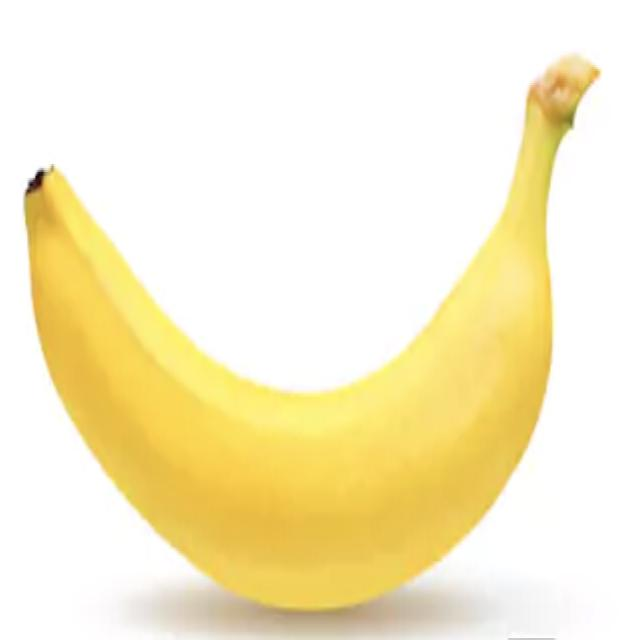fresh-banana: (22, 50, 600, 612)
